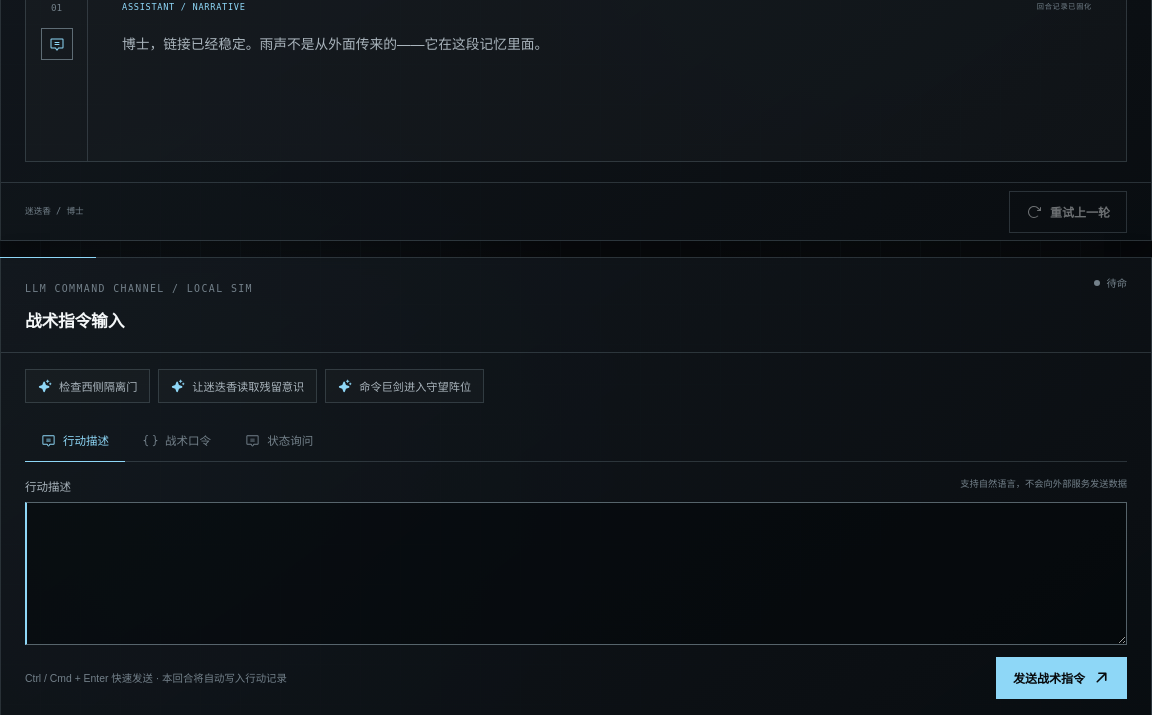
Test: 流式显示正文，闭合后呈现选项，并默认折叠思考过程
The image size is (1152, 715).
(page scrolled)
Type "观察走廊" into the text box named "战术指令" at (576, 573), box 25,502 -> 1127,645
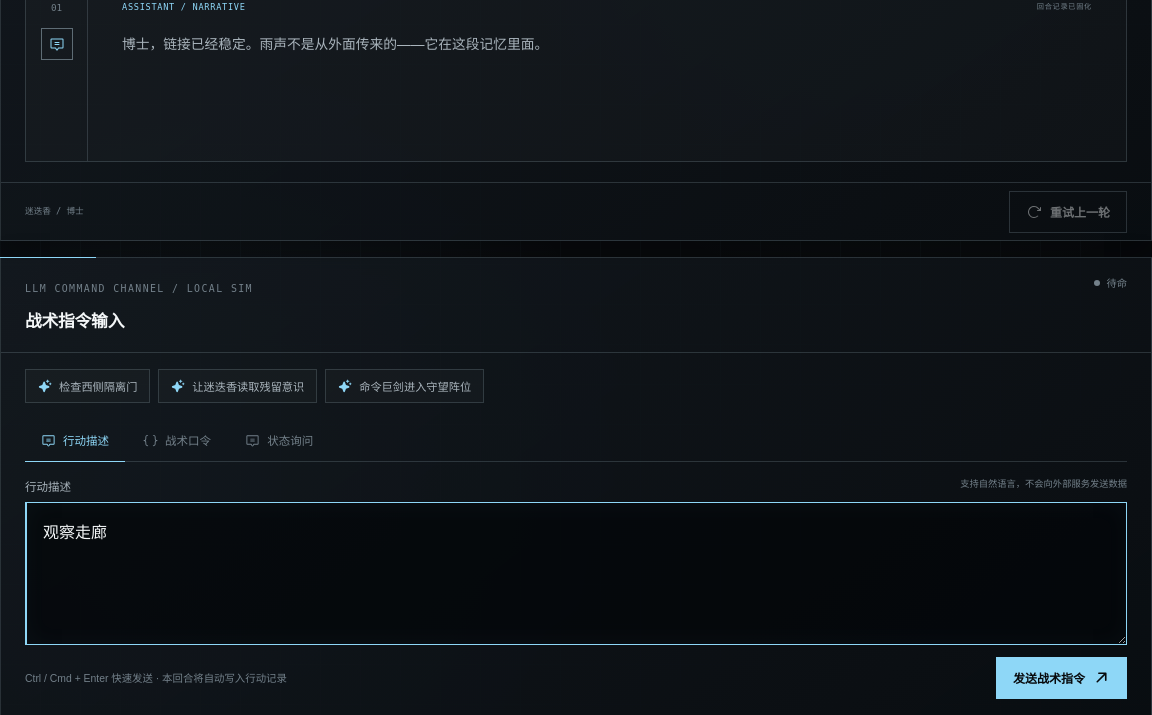
Click the button "发送战术指令" at (1062, 678), box 996,657 -> 1127,699
(page scrolled)
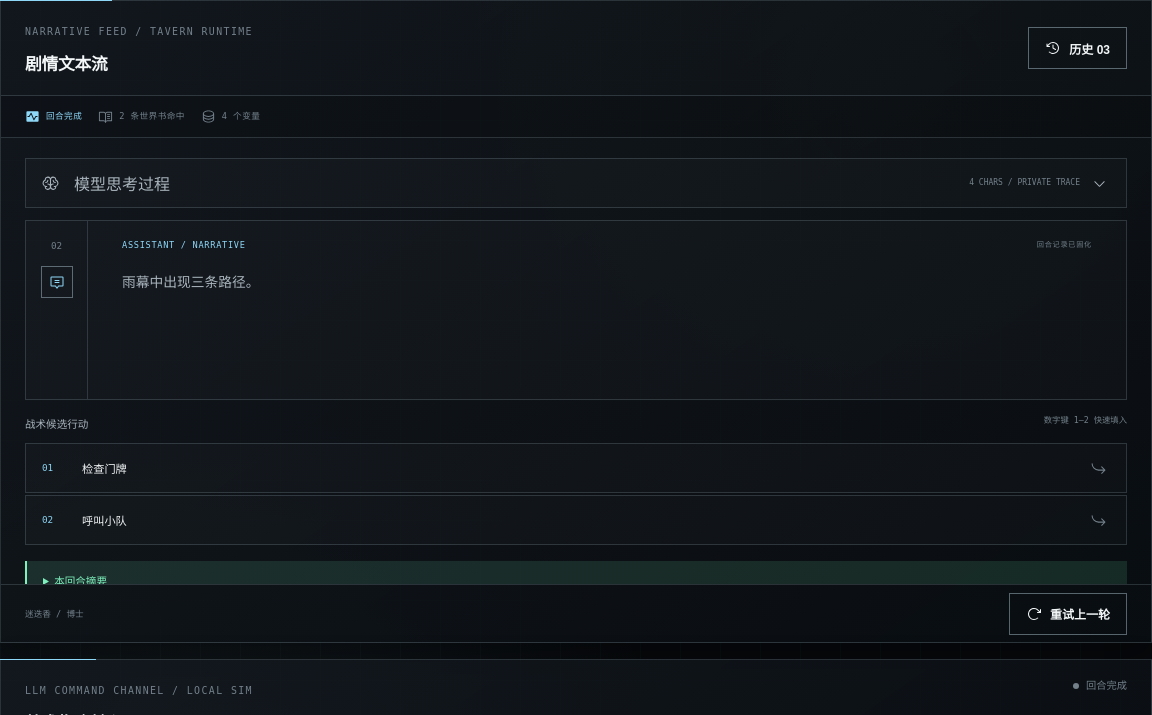
Now the text "雨幕中出现三条路径。" is shown, box 122,275 -> 260,290
Now the button with aria-label "选择：检查门牌" is shown, box 25,443 -> 1127,493
